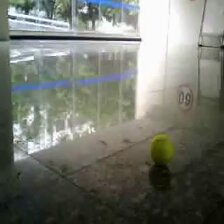tennis: (150, 134, 173, 162)
